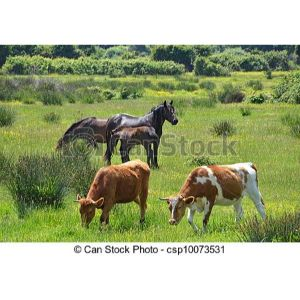cow: (158, 161, 270, 234), (73, 159, 151, 229)
horse: (55, 115, 104, 155), (109, 124, 163, 158), (109, 101, 179, 125)
